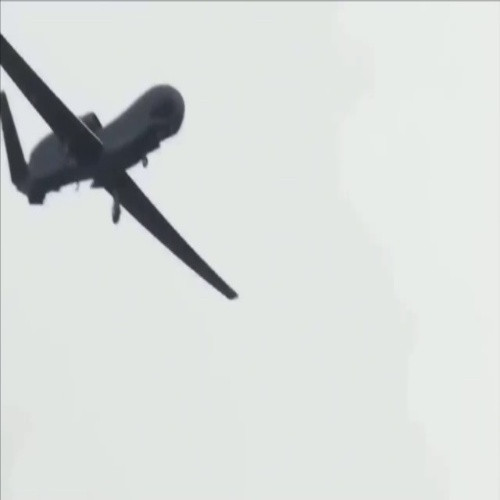uav843: (1, 32, 241, 299)
